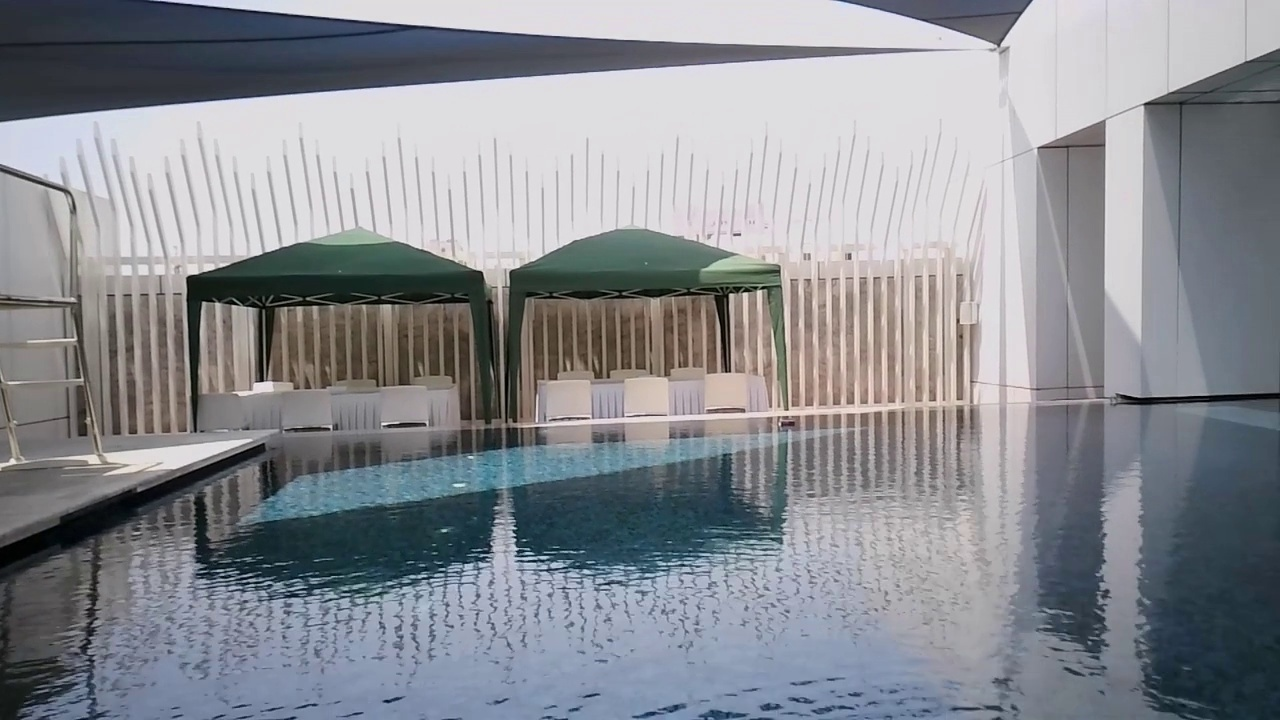debris: (777, 412, 797, 430), (1106, 392, 1118, 408)
